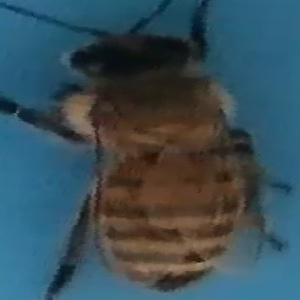bee: (2, 3, 300, 294)
